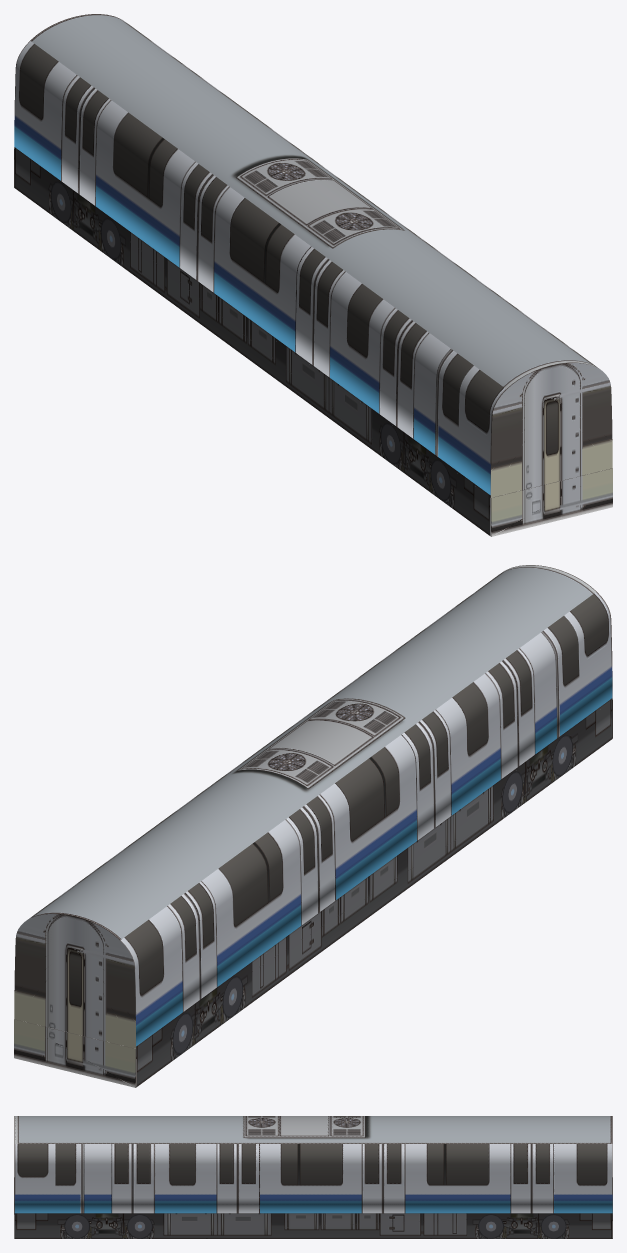
The model's file is saha.glb.
3 views of the same model, one above another, from view 1: azimuth 30°, elevation 25°; view 2: azimuth 150°, elevation 25°; view 3: azimuth 270°, elevation 25° (orthographic). The views are drawn at different scales.
Visible parts, largest first — view 1: jr-east-e131-saha; view 2: jr-east-e131-saha; view 3: jr-east-e131-saha.
Boxes of the visible parts, bbox=[...] form: jr-east-e131-saha: bbox=[14, 14, 612, 536]; jr-east-e131-saha: bbox=[14, 565, 612, 1087]; jr-east-e131-saha: bbox=[14, 1116, 612, 1238].
Size of the model in its own units: 2.95 by 3.62 by 20.03.
Materials: 7 (6 with a texture image).
